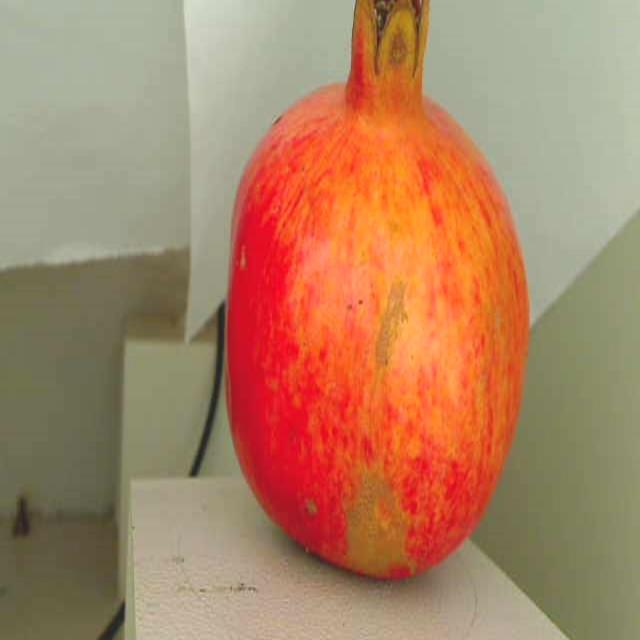pomegranate: (218, 0, 535, 589)
